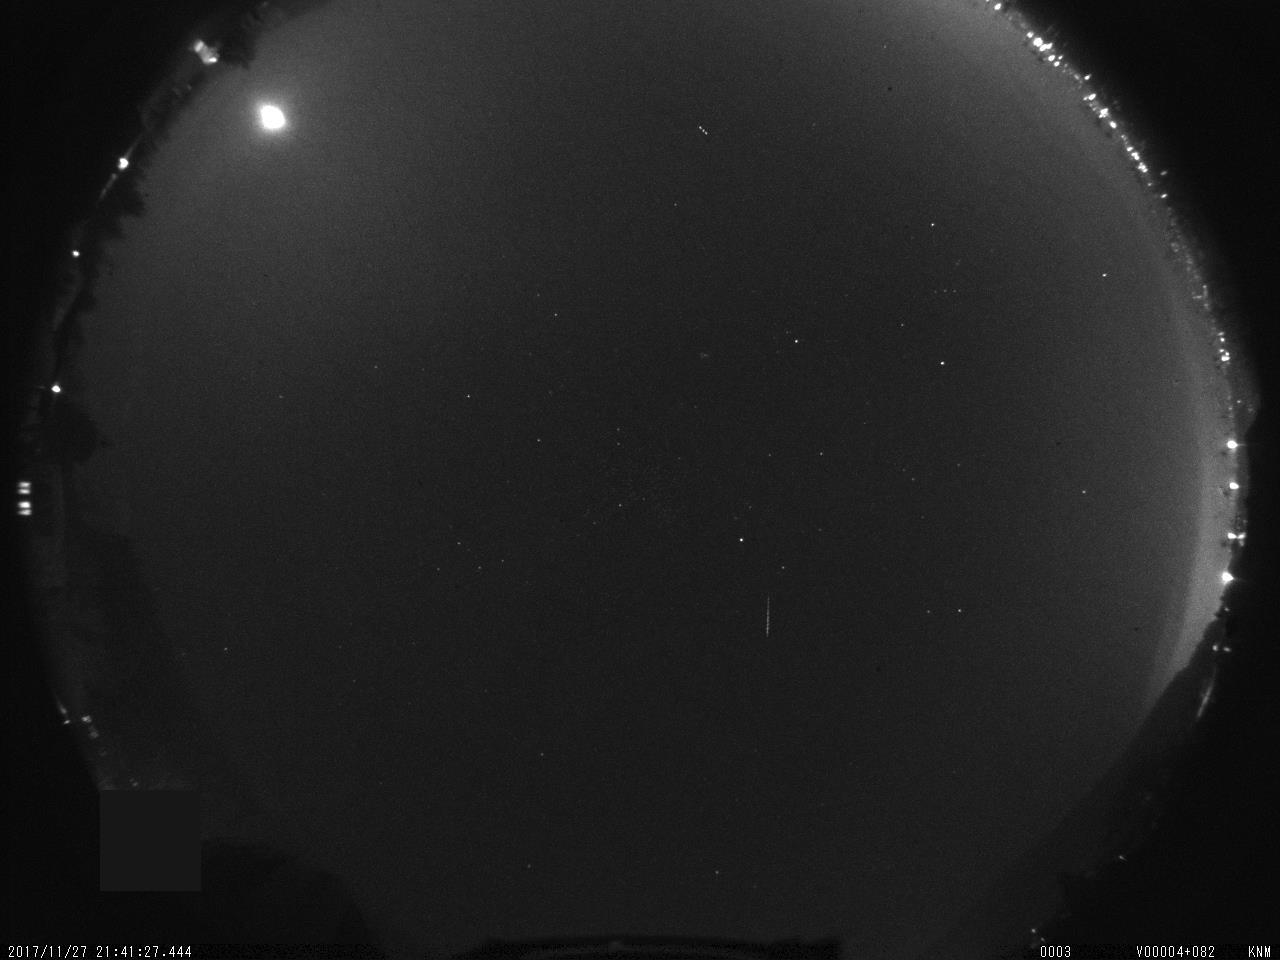meteor: (756, 591, 782, 644)
